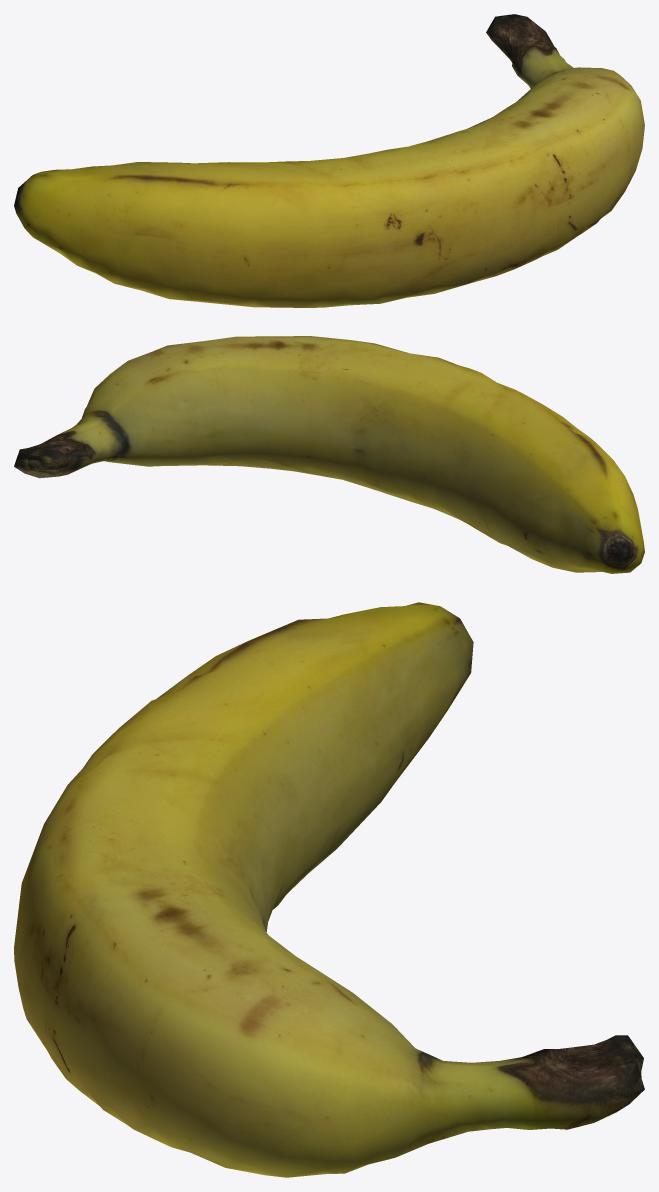
Rendered from banana_v02.obj.
3 renders of one model, top to bottom at view 1: azimuth 30°, elevation 25°; view 2: azimuth 150°, elevation 25°; view 3: azimuth 270°, elevation 25°, orthographic. The views are drawn at different scales.
Parts seen in each view (by area): view 1: banana07_lr_banana07_lr_0; view 2: banana07_lr_banana07_lr_0; view 3: banana07_lr_banana07_lr_0.
Part boxes in pixels (x1,y1,x2,y2): banana07_lr_banana07_lr_0: (14,14,644,307); banana07_lr_banana07_lr_0: (14,336,644,573); banana07_lr_banana07_lr_0: (14,602,644,1177).
Size of the model in its own units: 4968 by 1042 by 2855.
1 material, 1 textured.
